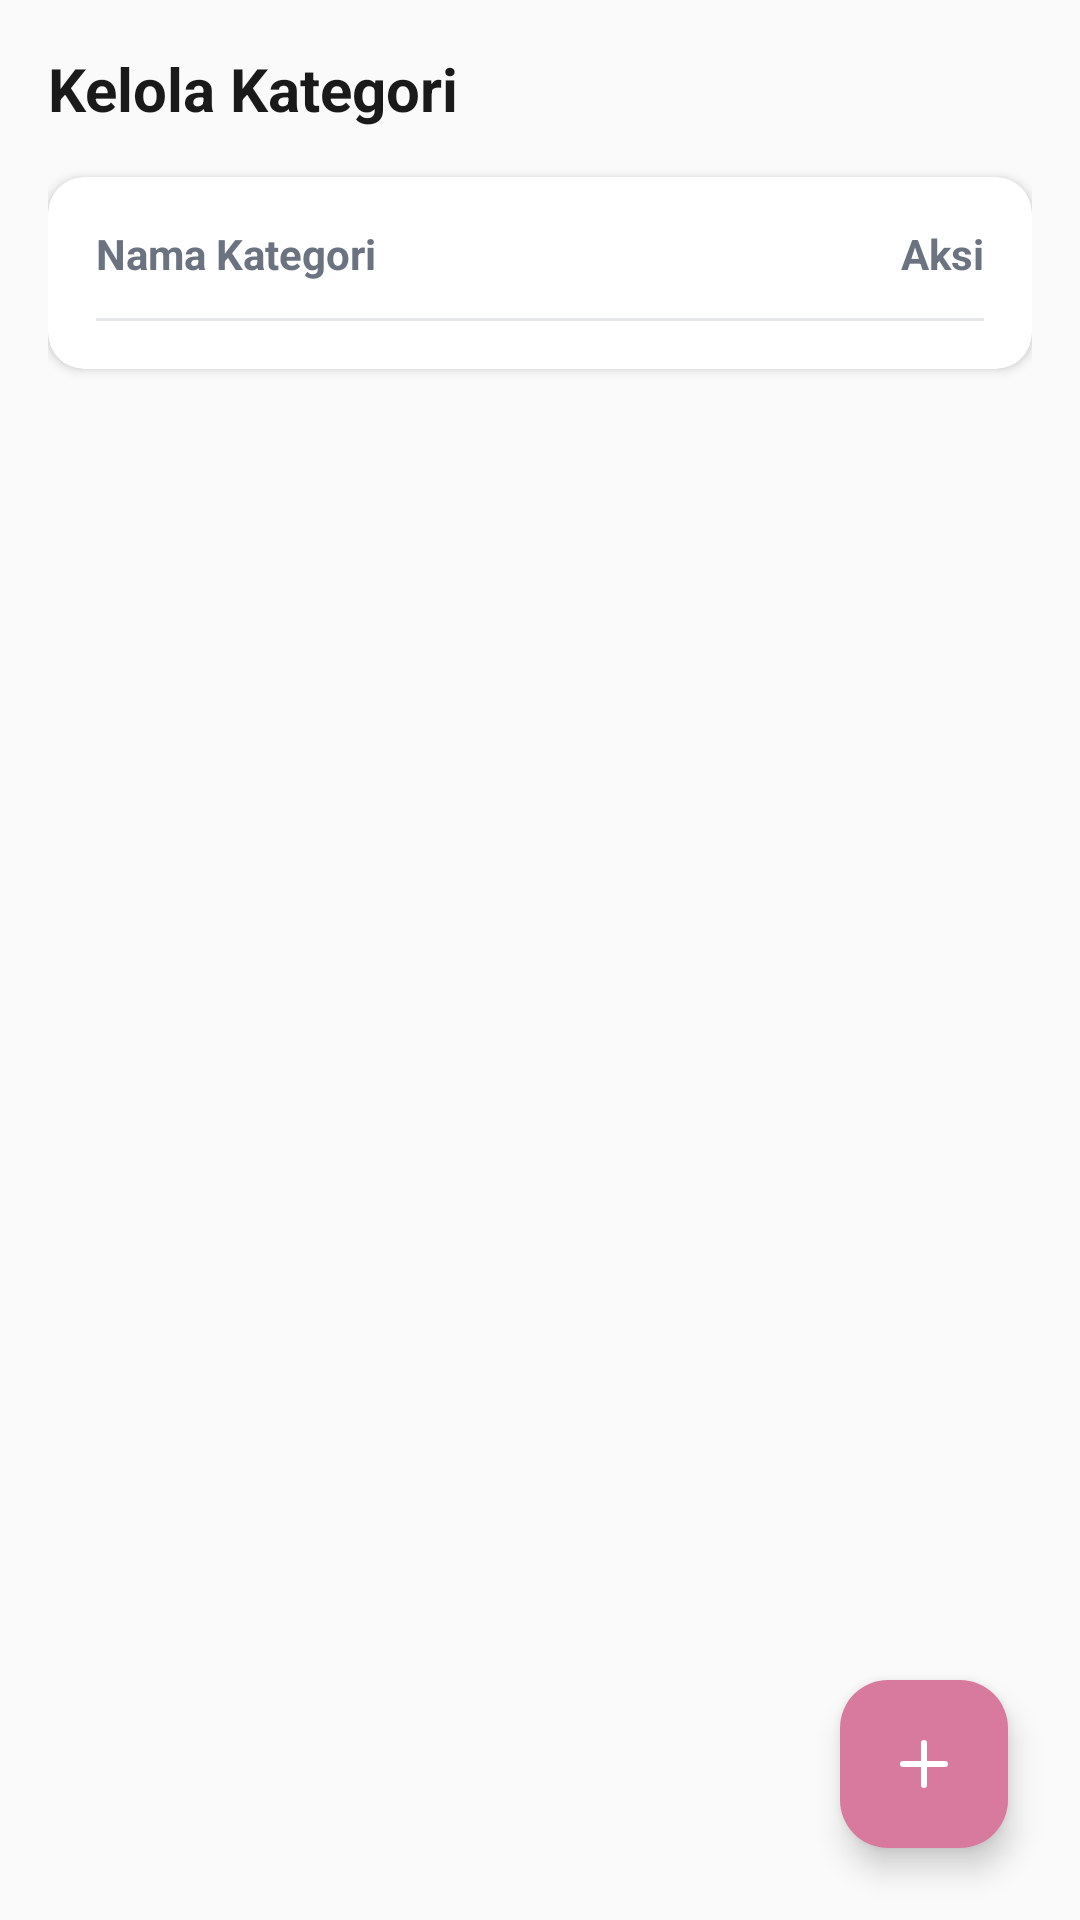

Locate icon controls on the screen. Image size 1080 x 1920, boxes as (x1, y1, x2, y2).
Tambah Kategori: (840, 1680, 1008, 1848)
